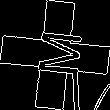M_W: (27, 29, 83, 81)
